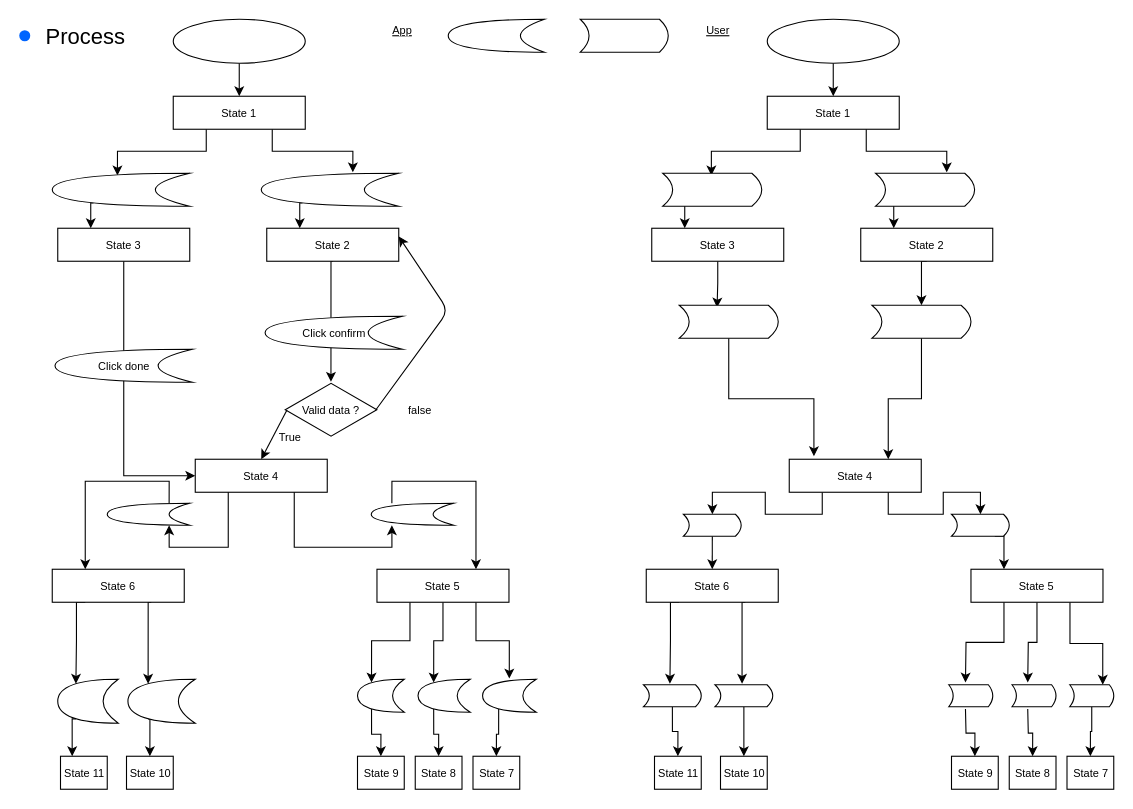
The diagram is 1133 pixels wide and 809 high, and some of its shapes have lost their labels. Each missing label, with the centre of its shape:
Click abakera: point 87,700
Click Ekhtiar: point 443,695
Click fetwa: point 380,695
Click hekaya: point 161,700
Click Log In: point 329,189
Click M: point 412,513
Click Prince: point 508,695
Click PS: point 148,513
Click Sign Up: point 120,189
Input -sig: point 495,35
output +sig: point 623,35
